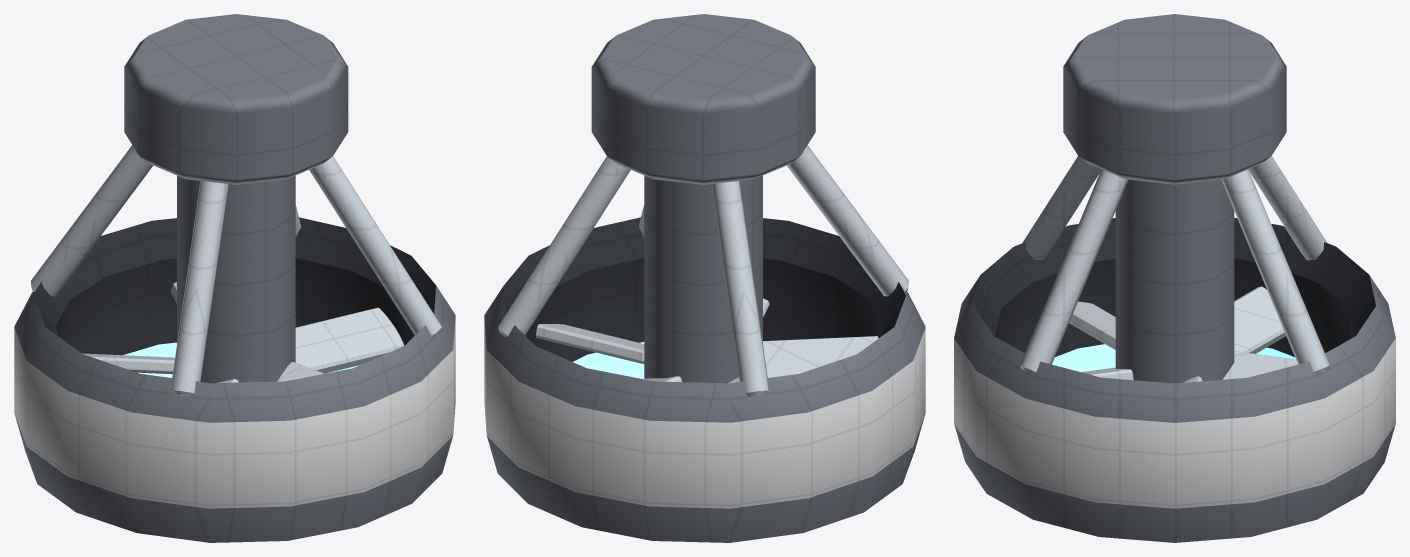
The model's file is R4X_HoverEngine_LOD1.glb.
3 renders of one model, left to right at view 1: azimuth 30°, elevation 25°; view 2: azimuth 150°, elevation 25°; view 3: azimuth 270°, elevation 25°, orthographic.
Visible parts, largest first — view 1: R4X_HoverEngine_LOD1; view 2: R4X_HoverEngine_LOD1; view 3: R4X_HoverEngine_LOD1.
Boxes of the visible parts, x1,y1,x2,y2 form: R4X_HoverEngine_LOD1: [14, 14, 455, 542]; R4X_HoverEngine_LOD1: [484, 14, 925, 542]; R4X_HoverEngine_LOD1: [954, 14, 1395, 542].
Size of the model in its own units: 0.5116 by 0.52 by 0.5138.
Materials: 5 (4 with a texture image).
